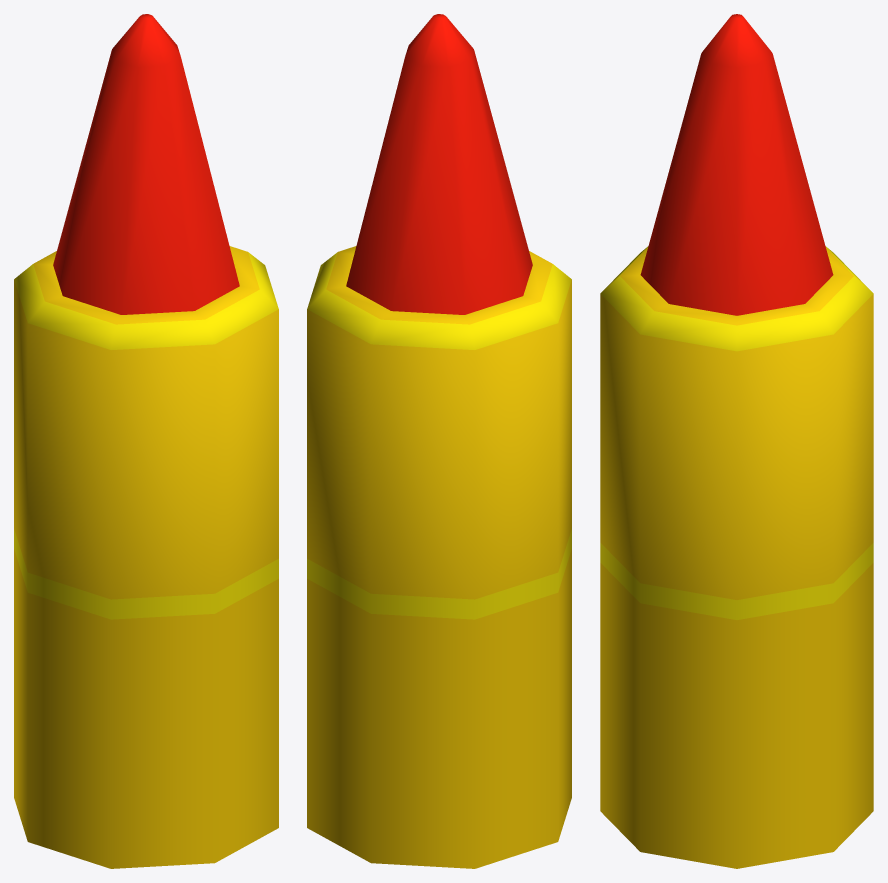
Rendered from bullet_3.fbx.
The picture shows the model from 3 angles, left to right: view 1: azimuth 30°, elevation 25°; view 2: azimuth 150°, elevation 25°; view 3: azimuth 270°, elevation 25°; orthographic projection.
Visible parts, largest first — view 1: Cylinder; view 2: Cylinder; view 3: Cylinder.
Boxes of the visible parts, <box> form: Cylinder: <box>14,14,278,868</box>; Cylinder: <box>307,14,571,868</box>; Cylinder: <box>600,14,873,868</box>.
Bounding box in the file's own units: 200 × 641 × 200.
